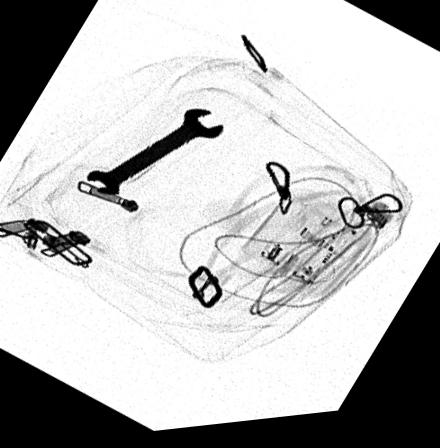Wrench: (82, 110, 224, 197)
